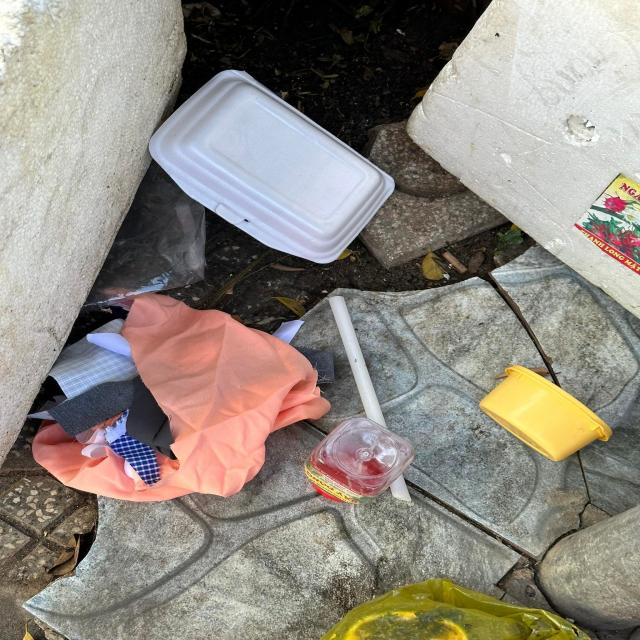drinking straw: (328, 296, 416, 507)
foam box: (149, 69, 398, 265)
plastic holder: (480, 368, 611, 463), (306, 418, 412, 506)
